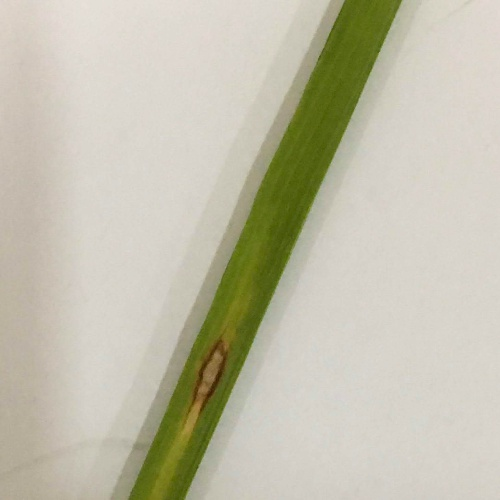Busuk Leher: (185, 336, 232, 434)
